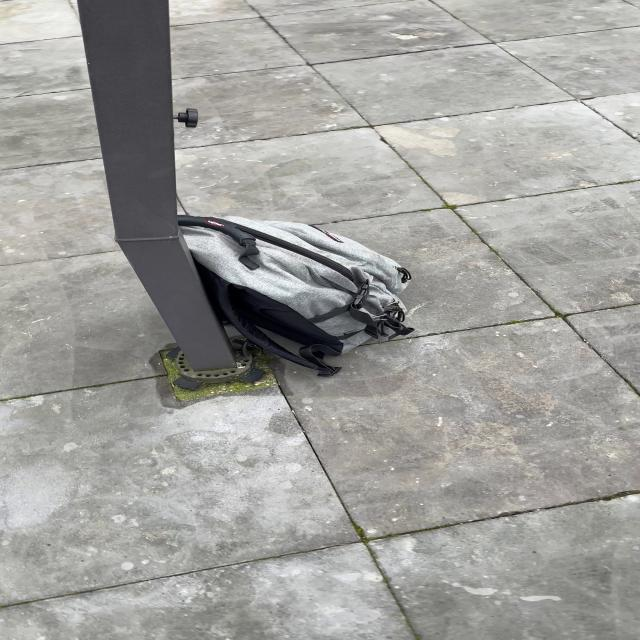backpack: (169, 212, 423, 380)
